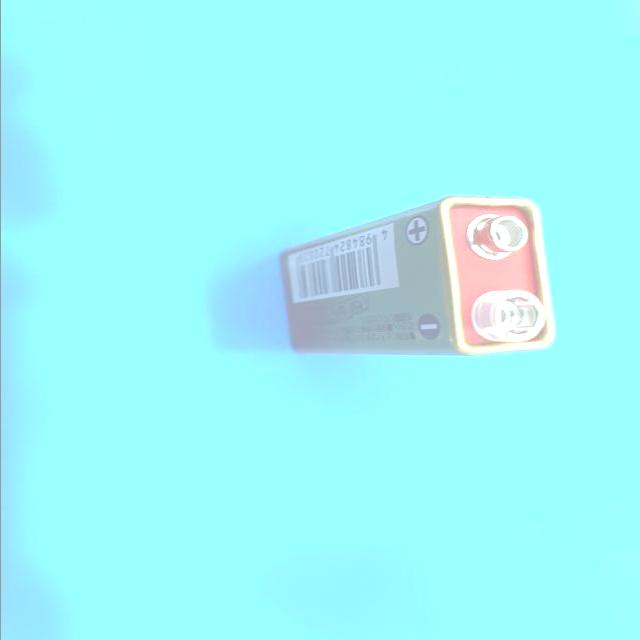9V: (277, 196, 556, 356)
